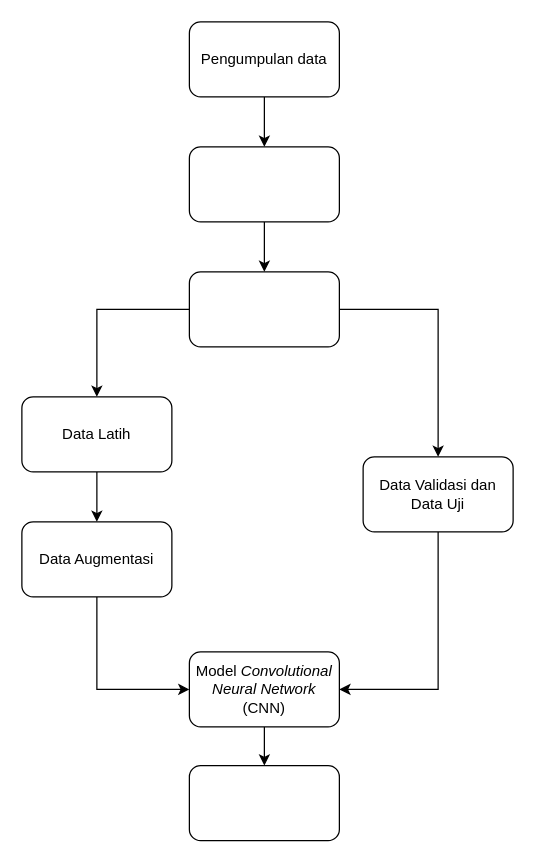
The diagram is 535 pixels wide and 863 high, and some of its shapes have lost their labels. Here are the shapes that lost their labels. From the top down, the centre of each, then its label:
At (263,184): "Pra-Proses".
At (263,309): "Pemisahan Data".
At (263,802): "Evaluasi".
